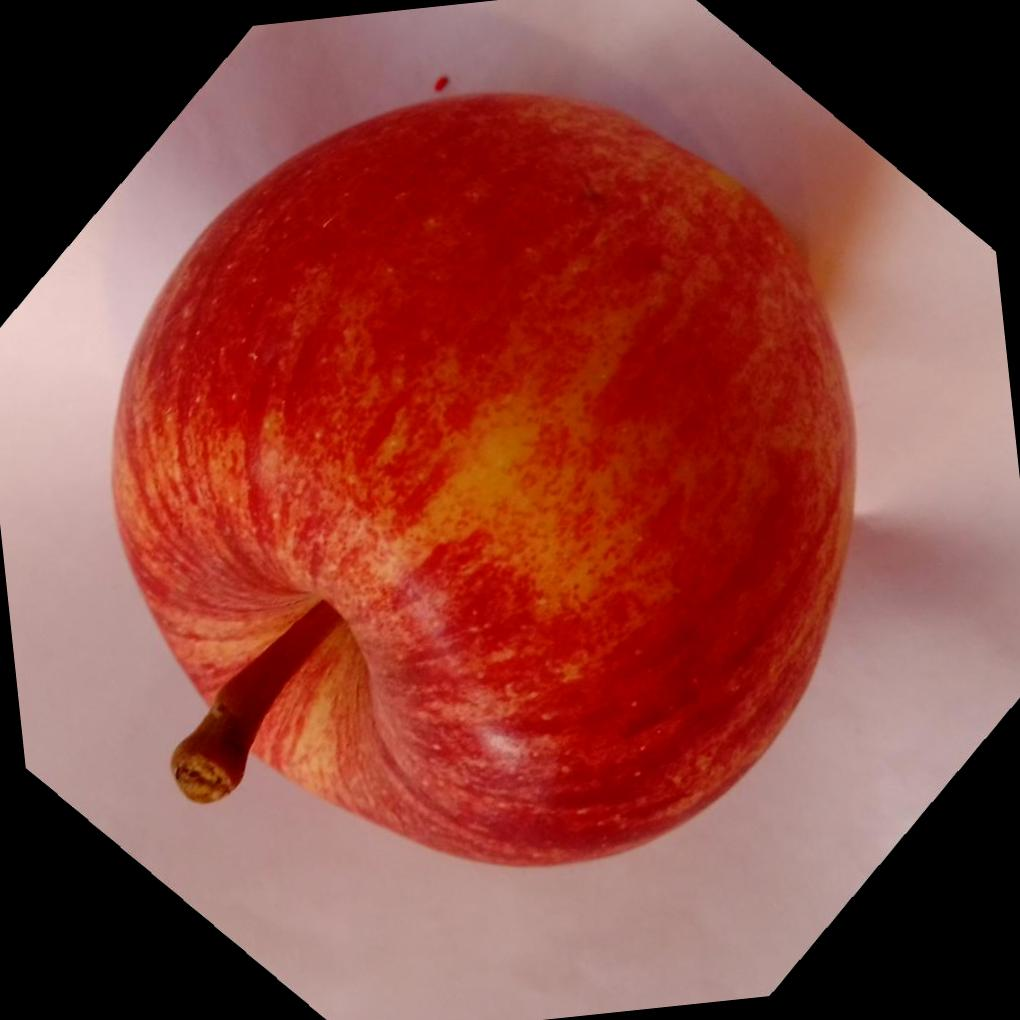FreshGuava: (107, 85, 857, 863)
